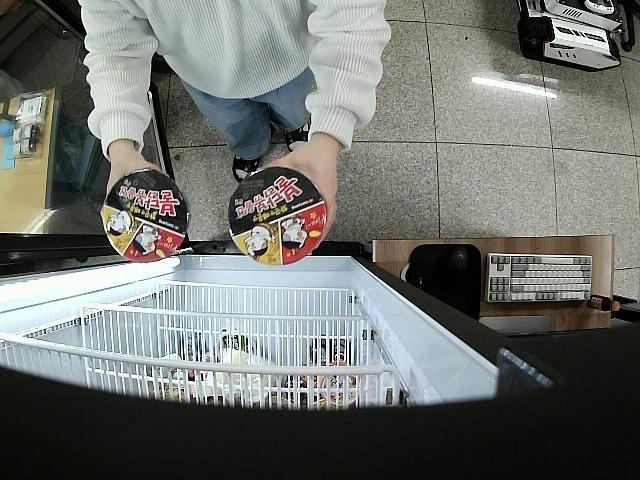07_buldak_L: (228, 168, 327, 266), (100, 168, 188, 264)
